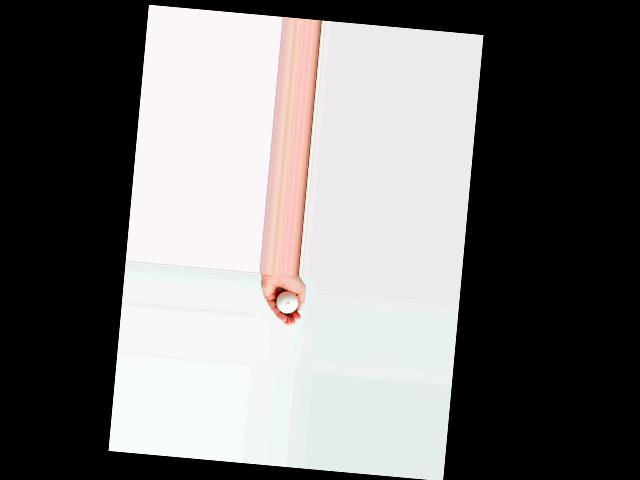egg: (275, 290, 298, 314)
